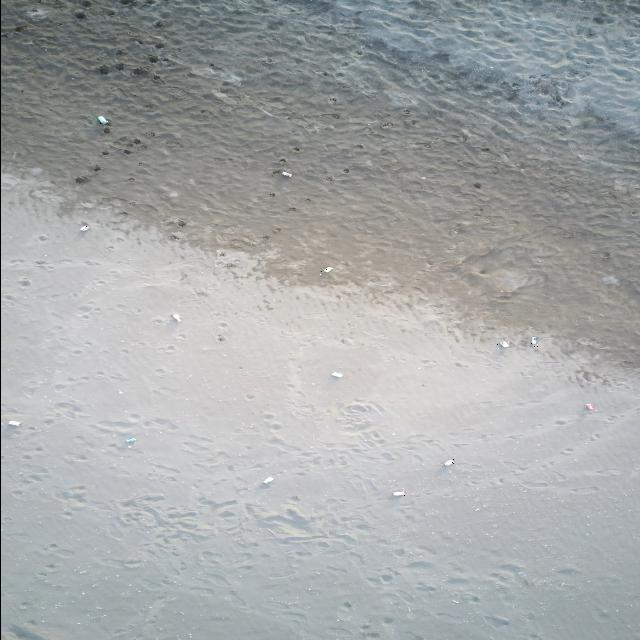Garbage: (124, 436, 136, 447), (75, 176, 88, 183), (97, 115, 108, 123), (584, 403, 595, 411), (529, 336, 537, 347), (392, 488, 404, 495), (444, 457, 453, 466), (171, 312, 179, 322), (281, 169, 292, 176), (263, 475, 271, 484), (8, 420, 20, 426), (320, 266, 332, 272), (497, 340, 508, 346), (80, 223, 88, 231), (332, 371, 342, 376)
